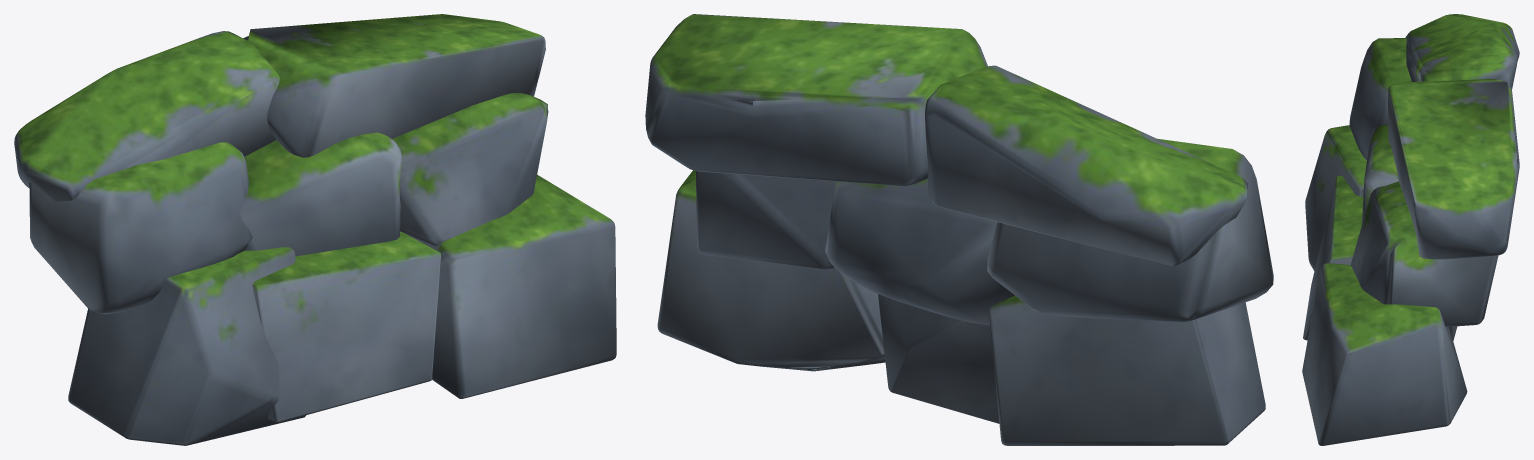
The model's file is cliff_a.glb.
3 renders of one model, left to right at view 1: azimuth 30°, elevation 25°; view 2: azimuth 150°, elevation 25°; view 3: azimuth 270°, elevation 25°, orthographic. The views are drawn at different scales.
Visible parts, largest first — view 1: cliff_a; view 2: cliff_a; view 3: cliff_a.
Boxes of the visible parts, box(x1,y1,x2,y2) form: cliff_a: box(14, 14, 616, 445); cliff_a: box(645, 14, 1273, 445); cliff_a: box(1302, 14, 1519, 445).
Bounding box in the file's own units: 5.59 × 3.2 × 2.36.
1 material, 1 textured.
